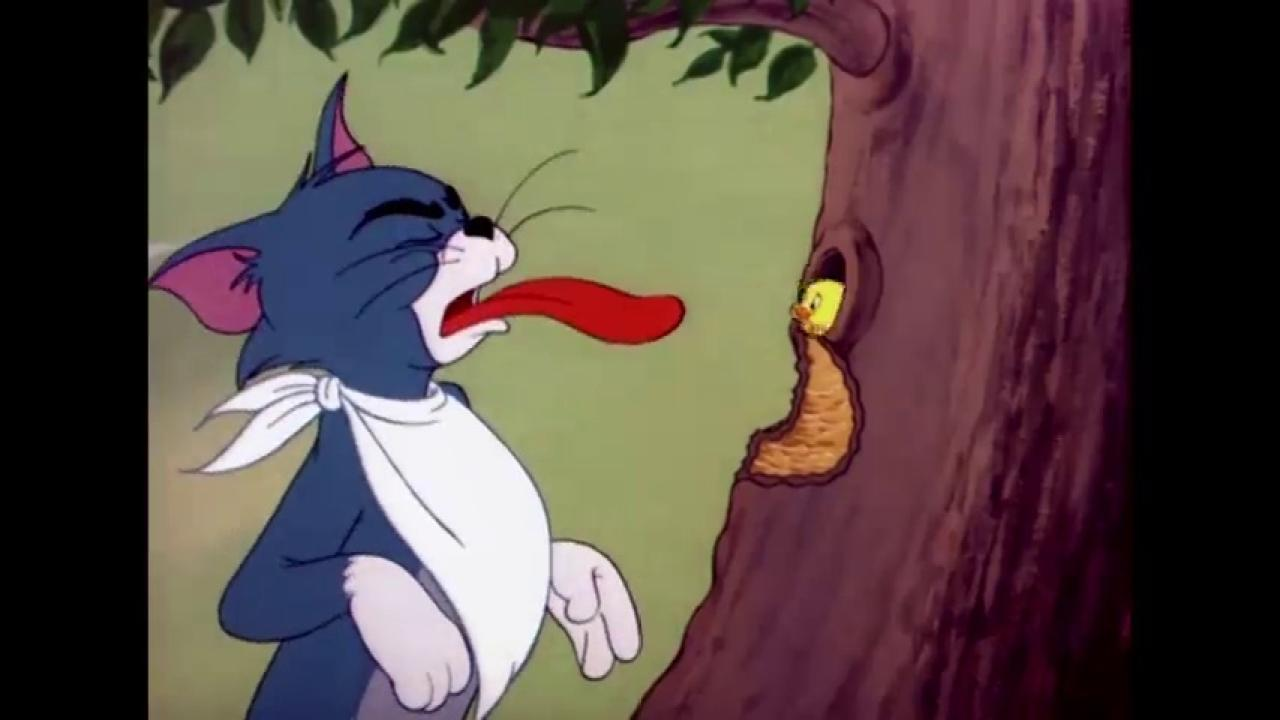Tom: (150, 67, 643, 720)
